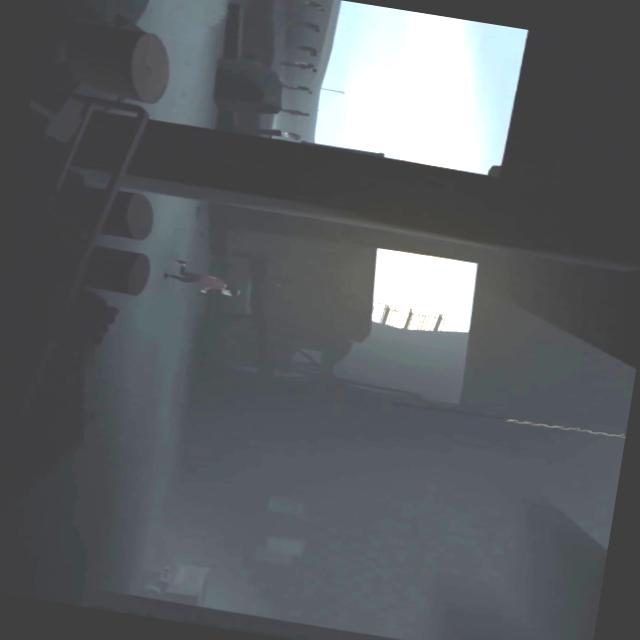boy: (163, 258, 244, 298)
zombie: (277, 57, 319, 73), (278, 40, 318, 56), (288, 16, 322, 32), (278, 82, 314, 94), (287, 0, 325, 11), (279, 106, 312, 117), (274, 130, 303, 140)
